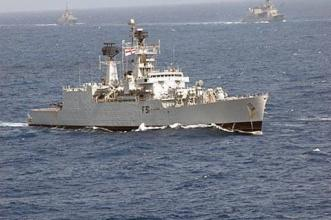warship: (27, 29, 273, 133), (242, 1, 287, 22)
